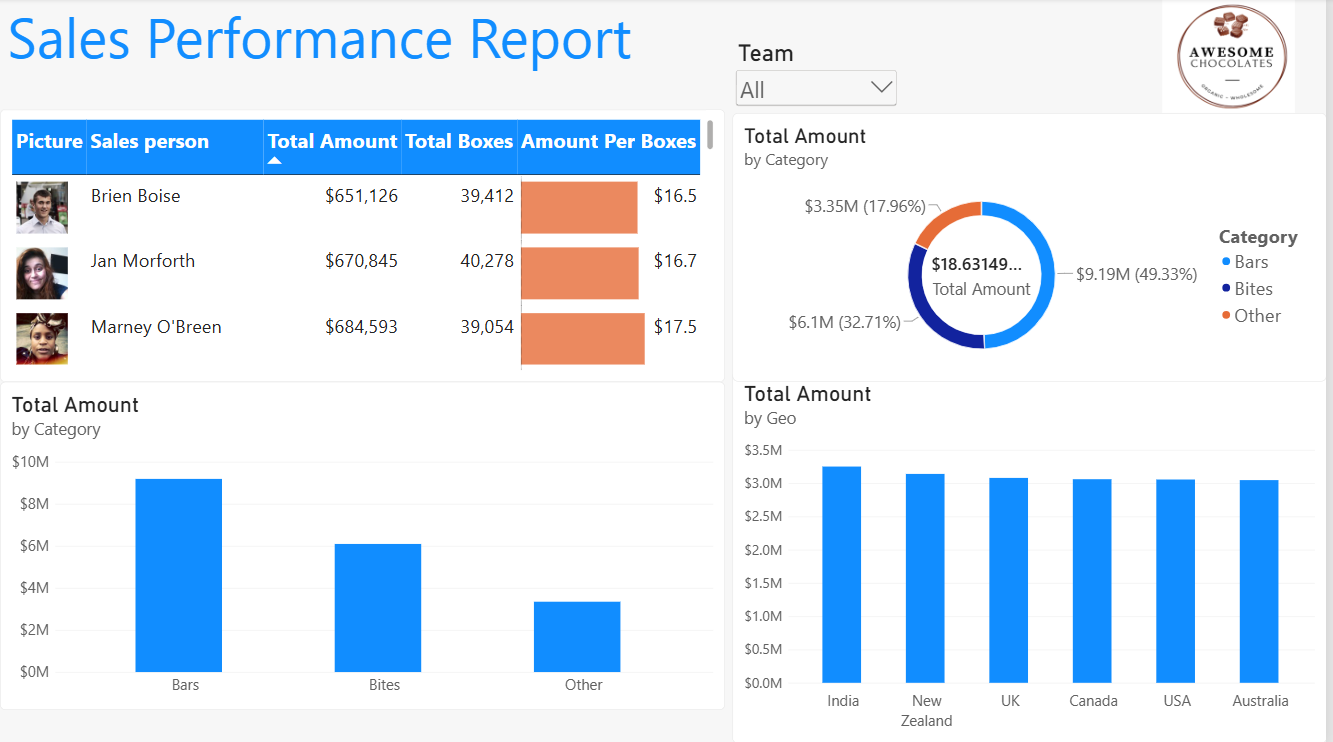

What the dashboard file says about the page in this screenshot:
{"tool":"powerbi","page":{"name":"Sales performance report","canvas":[1920,1080],"ordinal":0},"visuals":[{"type":"tableEx","fields":{"Values":["people.Picture","people.Sales person","sales.Total Amount","sales.Total Boxes","sales.Amount Per Bpxes"]},"box":[0,160.5,1049.7,395.2],"z":0},{"type":"slicer","fields":{"Values":["people.Team"]},"box":[1060,59.7,242.9,100.9],"z":1000},{"type":"columnChart","fields":{"Category":["products.Category"],"Y":["sales.Total Amount"]},"box":[0,555.7,1049.7,475.5],"z":2000},{"type":"columnChart","fields":{"Category":["locations.Geo"],"Y":["sales.Total Amount"]},"box":[1060,539.3,860.4,541.3],"z":3000},{"type":"textbox","box":[10.3,0,1144.4,117.3],"z":4000},{"type":"image","box":[1638.4,0,282,166.7],"z":5000},{"type":"donutChart","fields":{"Category":["products.Category","products.Product"],"Y":["sales.Total Amount"]},"box":[1060,166.7,860.4,389],"z":5001}]}

Visuals, with their boxes in screenshot pixels (x1, y1, x2, y2), scaled from the page's 1920x1080 canvas onto the 1333x742 screenshot:
tableEx - people.Picture x people.Sales person: x1=0, y1=110, x2=729, y2=382
slicer - people.Team: x1=736, y1=41, x2=905, y2=110
columnChart - products.Category x sales.Total Amount: x1=0, y1=382, x2=729, y2=708
columnChart - locations.Geo x sales.Total Amount: x1=736, y1=371, x2=1332, y2=741
textbox: x1=7, y1=0, x2=802, y2=81
image: x1=1137, y1=0, x2=1332, y2=115
donutChart - products.Category x products.Product: x1=736, y1=115, x2=1332, y2=382
